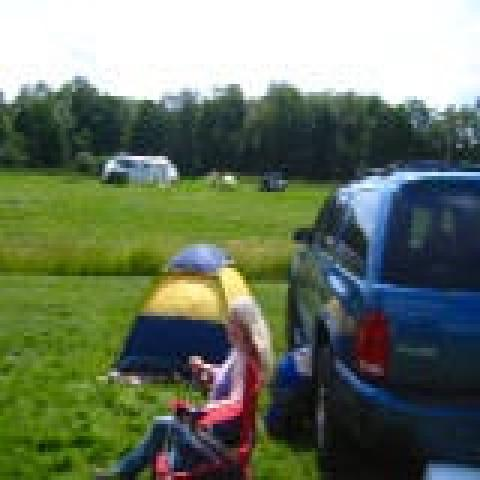car: (262, 162, 290, 191), (204, 168, 235, 188), (361, 166, 386, 178)
truck: (285, 152, 477, 476), (102, 155, 176, 179)
